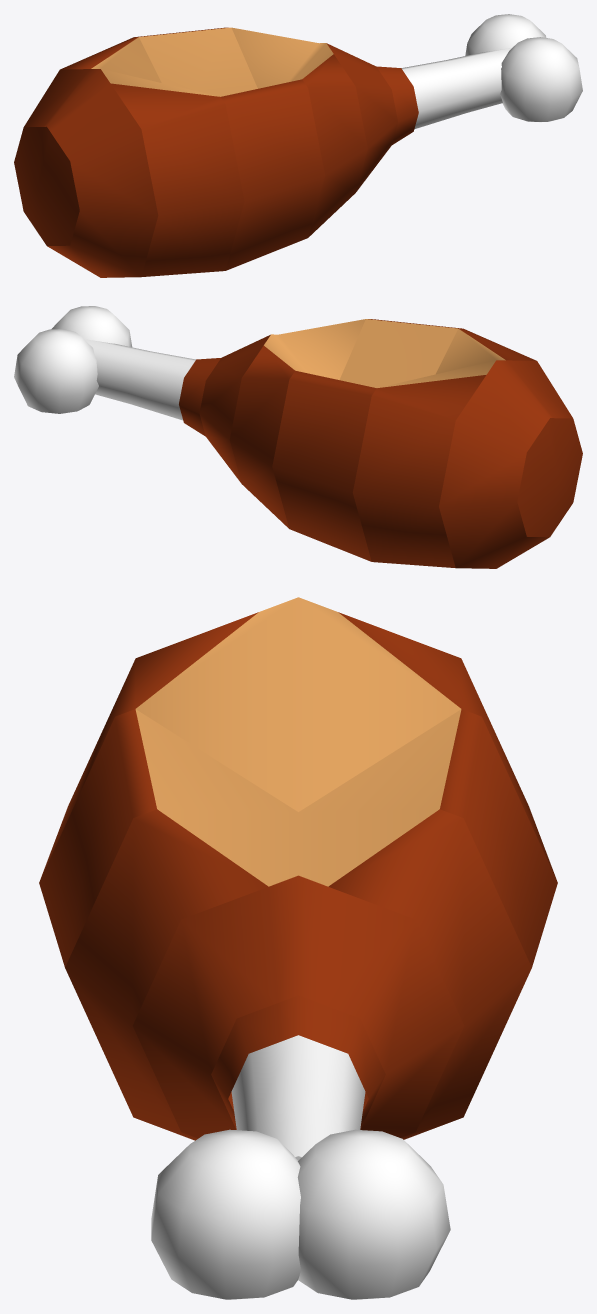
Rendered from Poulet_mange.FBX.
3 renders of one model, top to bottom at view 1: azimuth 30°, elevation 25°; view 2: azimuth 150°, elevation 25°; view 3: azimuth 270°, elevation 25°, orthographic. The views are drawn at different scales.
Visible parts, largest first — view 1: Line001, Sphere001, Cylinder001, Sphere002; view 2: Line001, Sphere002, Cylinder001, Sphere001; view 3: Line001, Sphere001, Sphere002, Cylinder001.
Part boxes in pixels (<box>): Line001: <box>14,27,418,277</box>; Sphere001: <box>500,37,582,122</box>; Cylinder001: <box>401,48,511,129</box>; Sphere002: <box>465,14,546,55</box>; Line001: <box>179,319,582,568</box>; Sphere002: <box>14,329,98,413</box>; Cylinder001: <box>85,339,195,420</box>; Sphere001: <box>51,306,132,347</box>; Line001: <box>39,597,557,1140</box>; Sphere001: <box>151,1129,300,1299</box>; Sphere002: <box>297,1129,450,1299</box>; Cylinder001: <box>231,1035,365,1160</box>.
Bounding box in the file's own units: 130 × 52.84 × 55.97.
